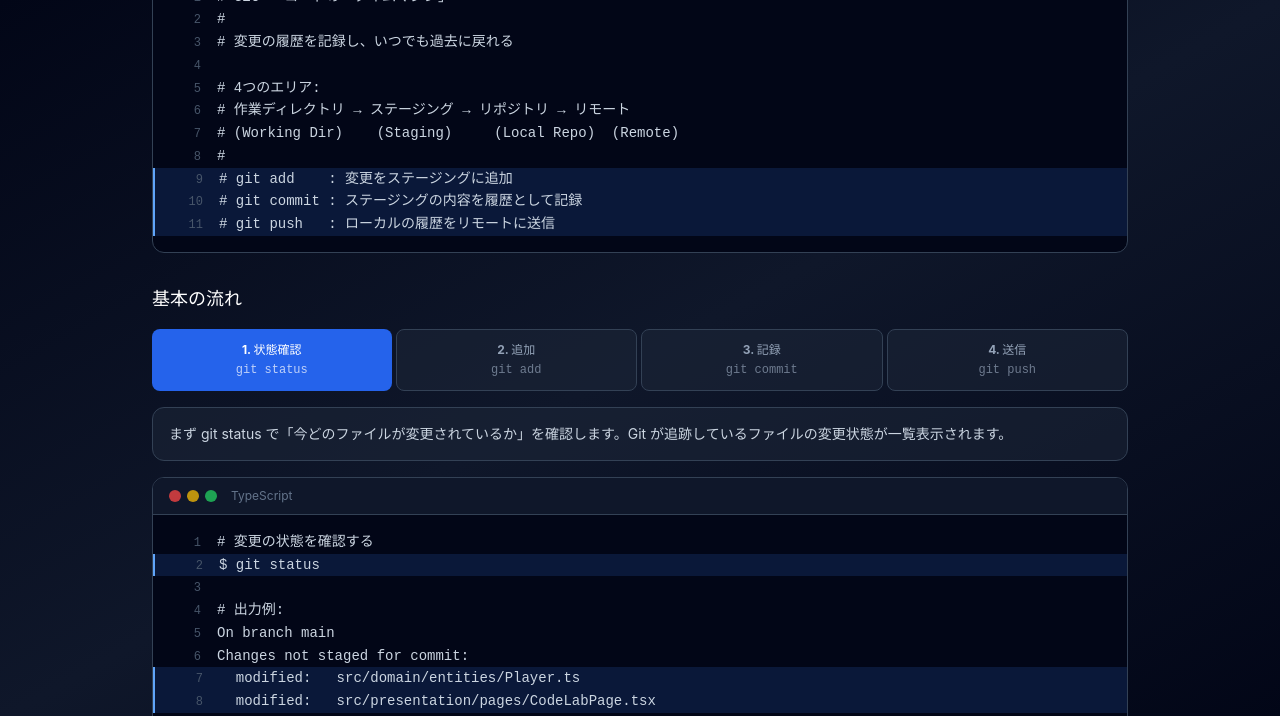
Scenario: GitBasicsLesson interactions › should switch to Commit step
(page scrolled)
Click the button "3. 記録 git commit" at (762, 360), box top-left (641, 329), bottom-right (882, 391)
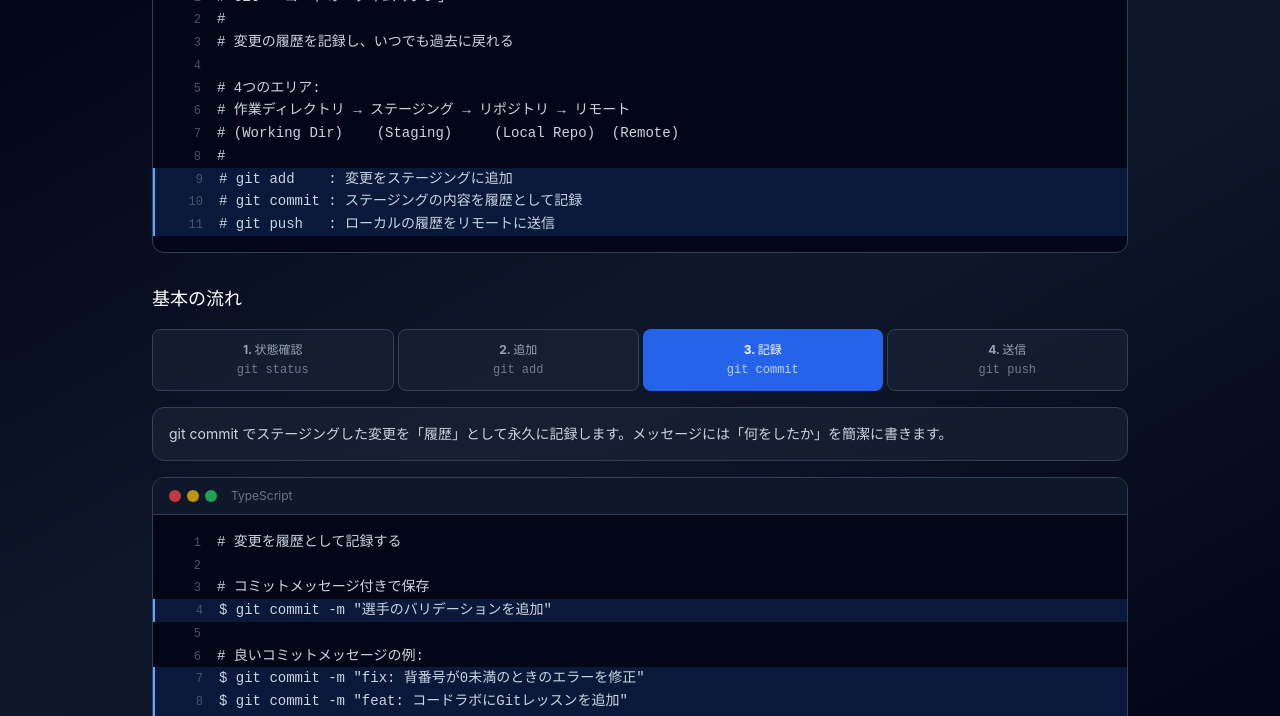
Result: the text "ステージングした変更を「履歴」として" is shown at top-left (169, 425), bottom-right (952, 442)
